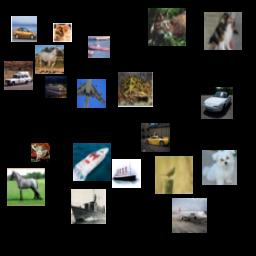airplane: (172, 198, 207, 233), (77, 79, 106, 108)
automobile: (201, 87, 233, 119), (141, 123, 170, 152), (4, 61, 33, 90), (11, 16, 37, 42)
bird: (155, 156, 193, 194)
cat: (148, 8, 186, 46), (53, 23, 72, 42)
dog: (204, 12, 242, 50), (202, 150, 237, 185)
frog: (118, 72, 153, 107), (31, 143, 50, 162)
ship: (73, 143, 111, 181), (71, 189, 106, 224), (112, 159, 141, 188), (45, 76, 67, 98), (88, 36, 110, 58)
